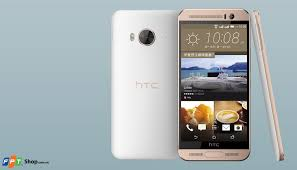htc: (176, 3, 255, 163), (109, 5, 181, 162)
